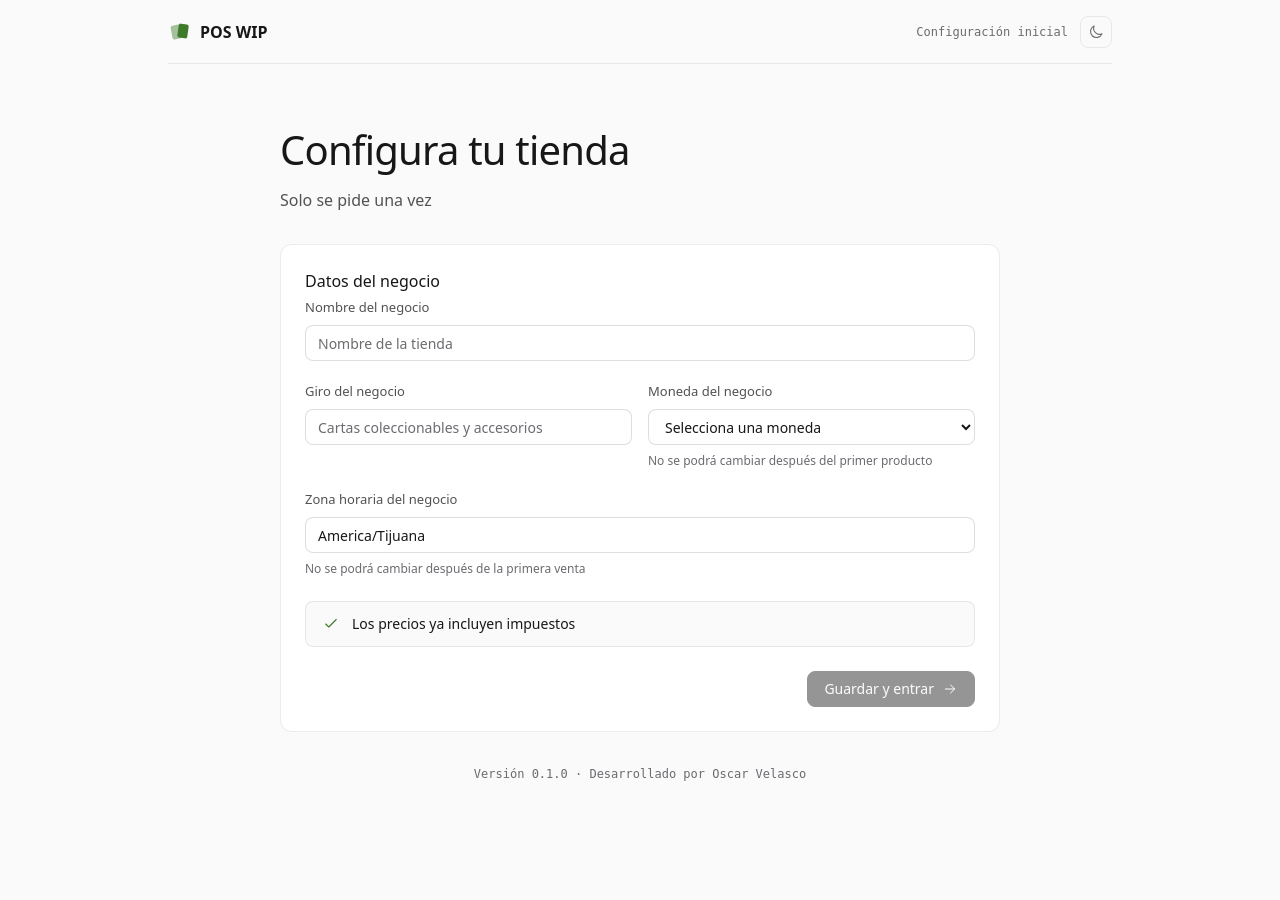
Scenario: flujo del POS (puente Tauri simulado) › solo abre el panel después de guardar preferencias incompletas
The image size is (1280, 900).
Expected: the button "Guardar y entrar" is shown, [807, 671, 975, 707]
Type "Nueva tienda" into the field labelled "Nombre del negocio" at (640, 343), box [305, 325, 975, 361]
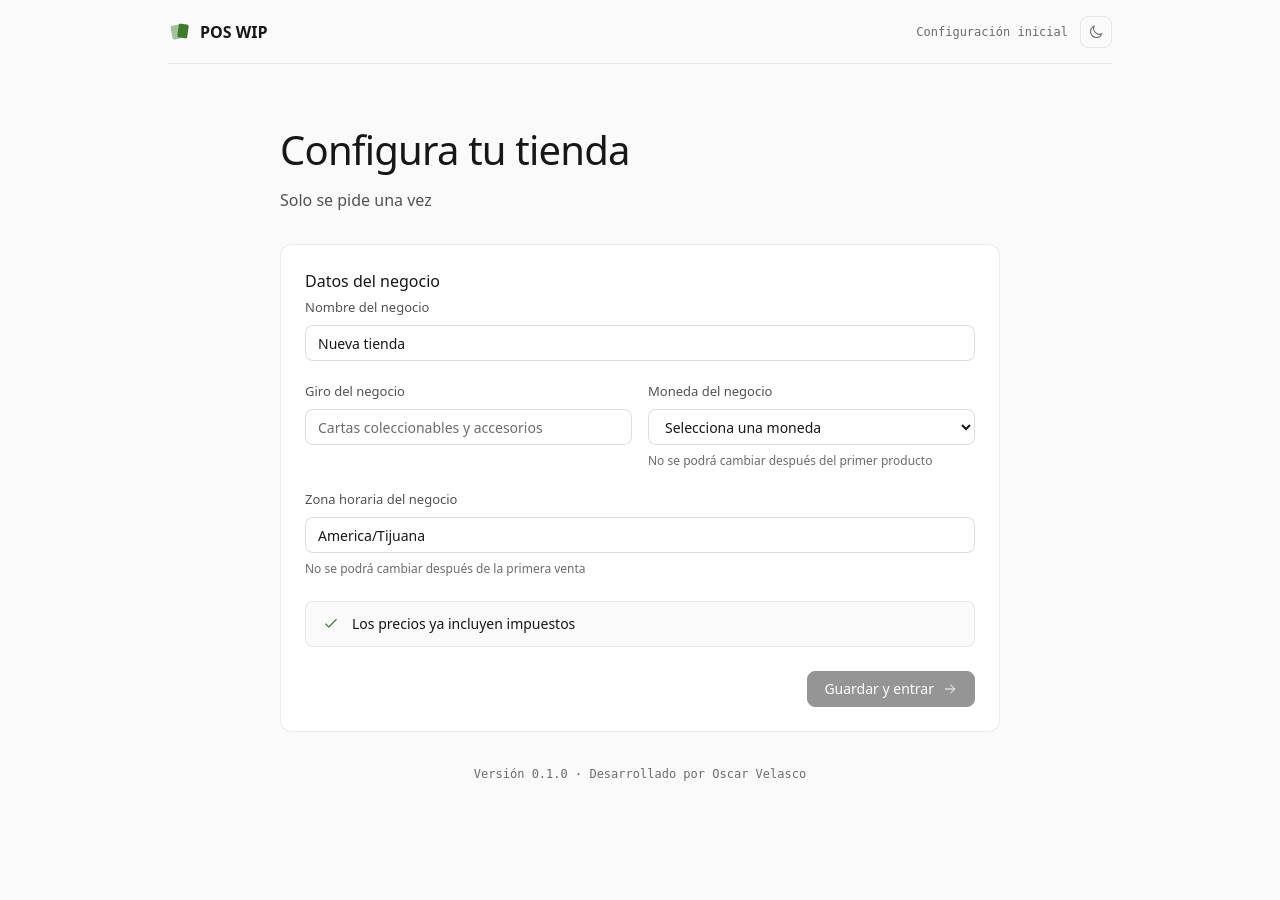
Type "Regalos" into the field labelled "Giro del negocio" at (468, 427), box [305, 409, 632, 445]
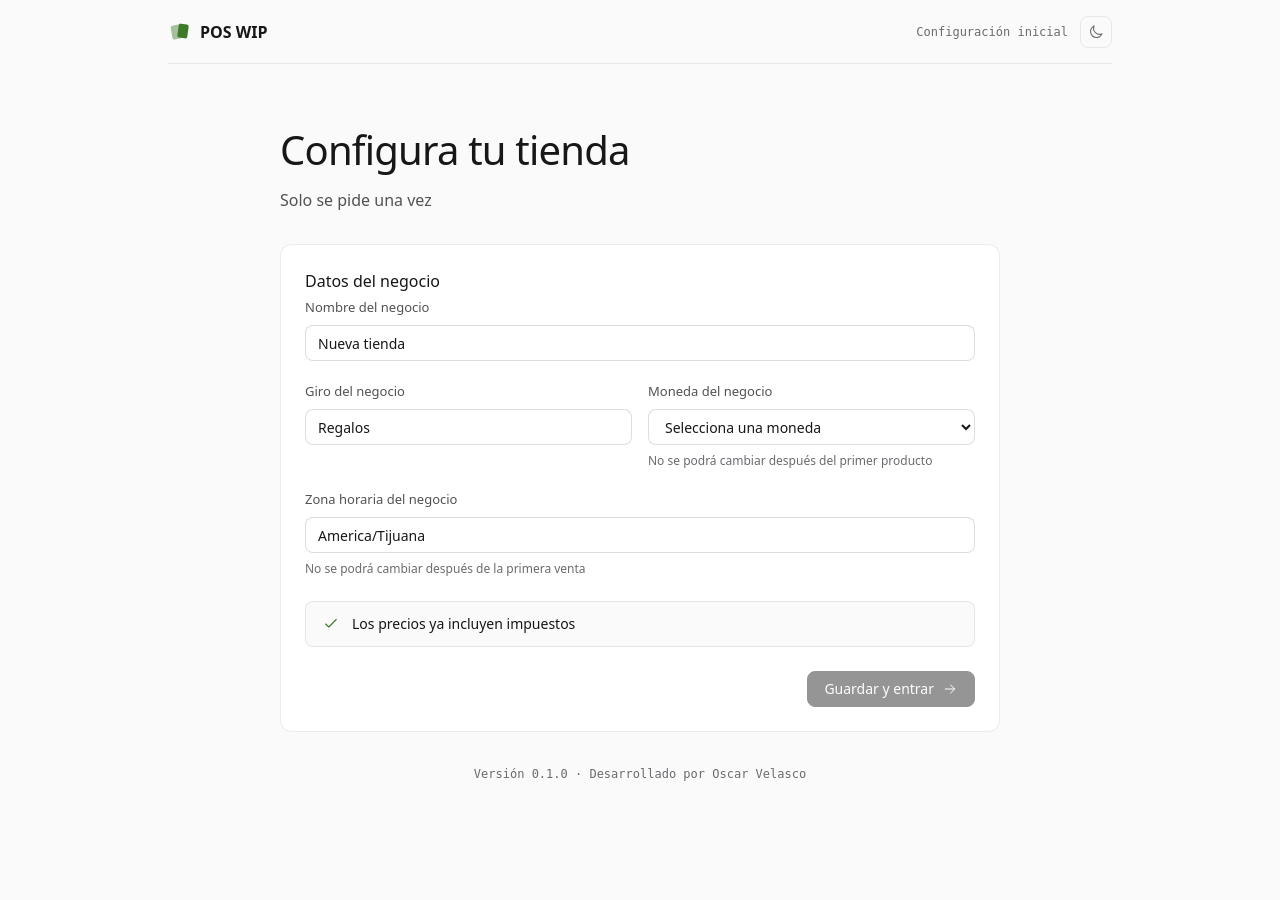
Select "MXN · Peso mexicano" in the dropdown labelled "Moneda del negocio" at (812, 427), box [648, 409, 975, 445]
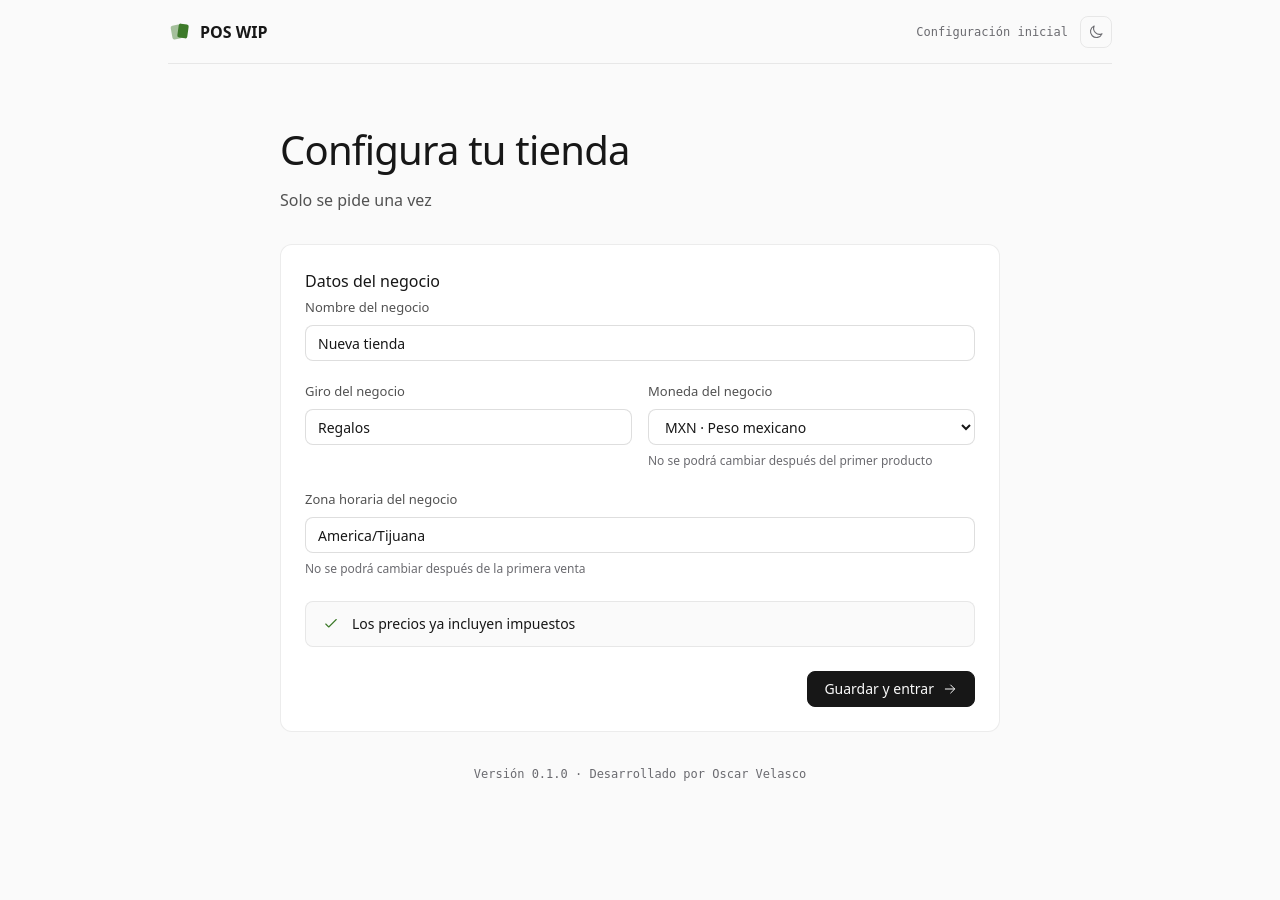
Click the button "Guardar y entrar" at (891, 689), box [807, 671, 975, 707]
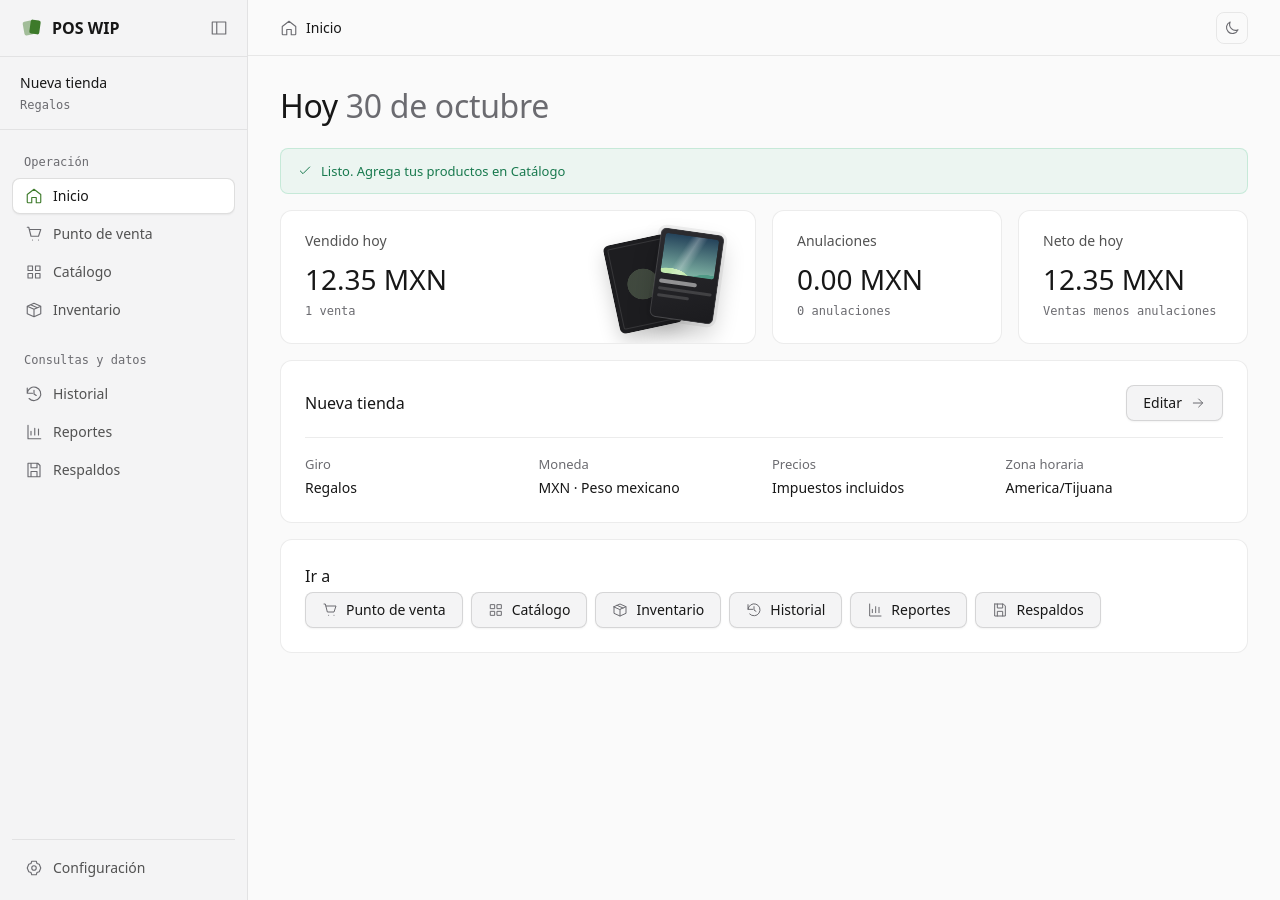
Expected: the navigation bar named "Navegación principal" is shown, [12, 155, 235, 488]
